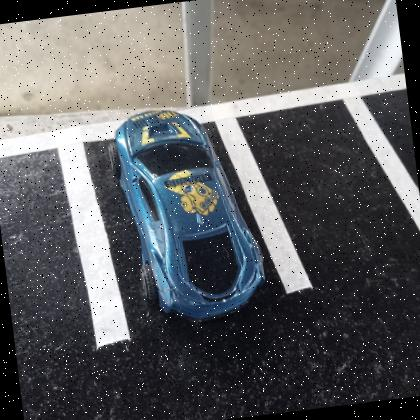Car: (114, 110, 266, 325)
